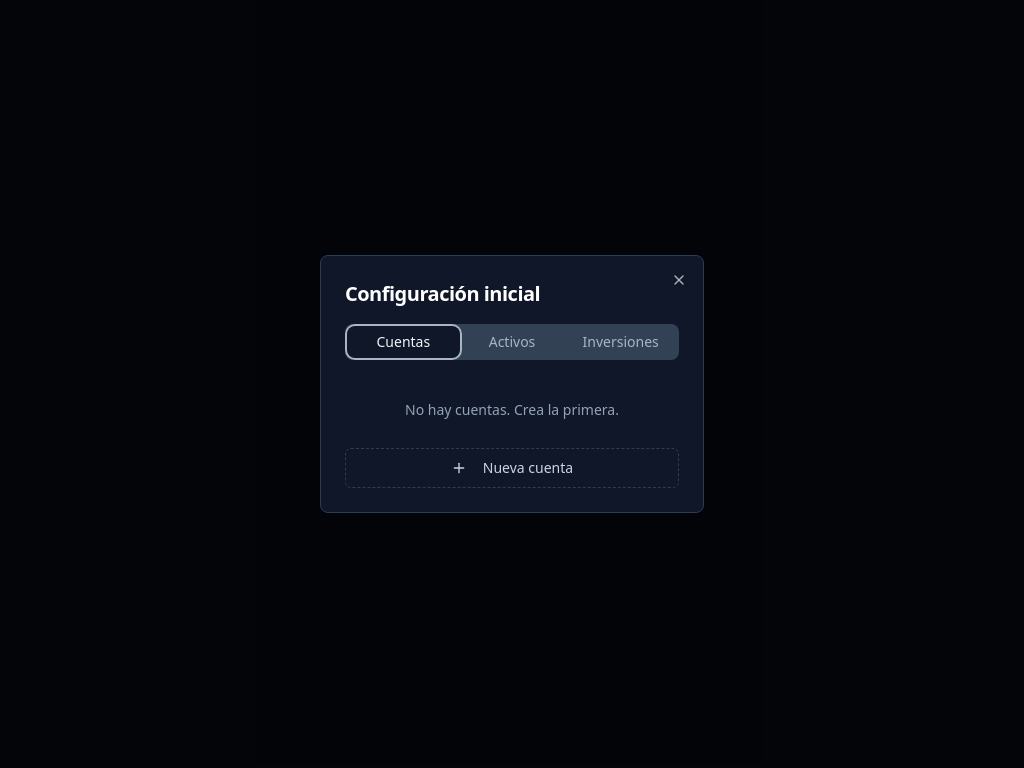
Test: AccountsModal – edit and update › cancels asset edit form when X is clicked — hides form
Click the tab "Activos" at {"x": 512, "y": 342}, box [458, 328, 566, 356]
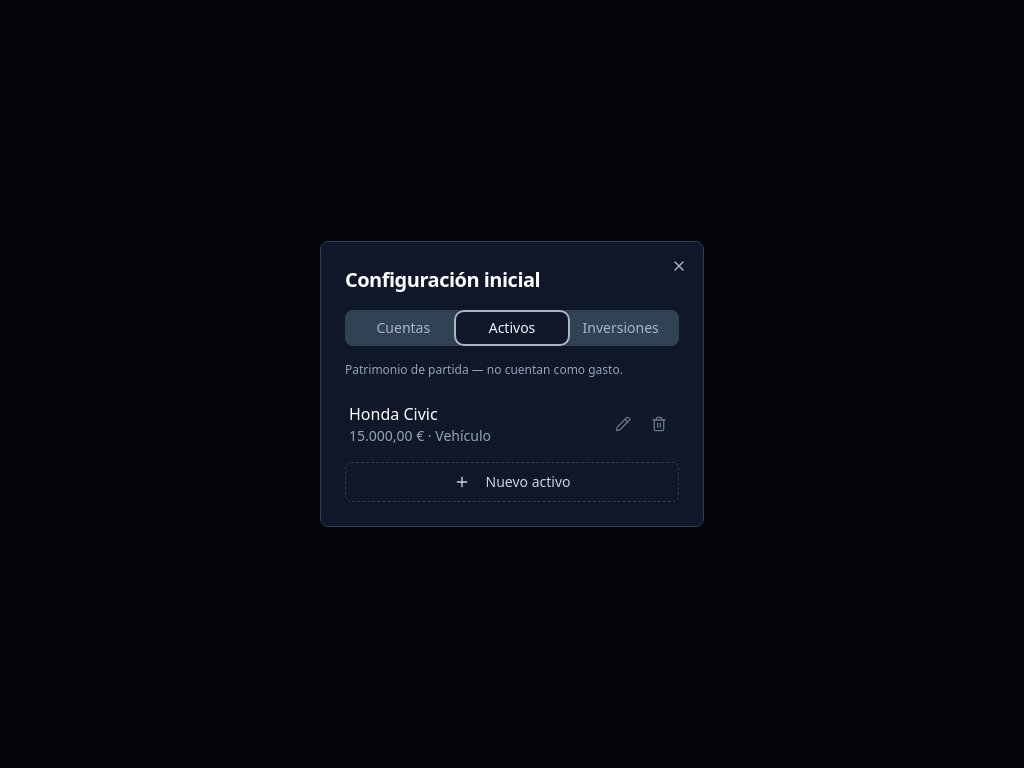
Click the button named "Editar Honda Civic" at {"x": 623, "y": 424}, box [607, 408, 639, 440]
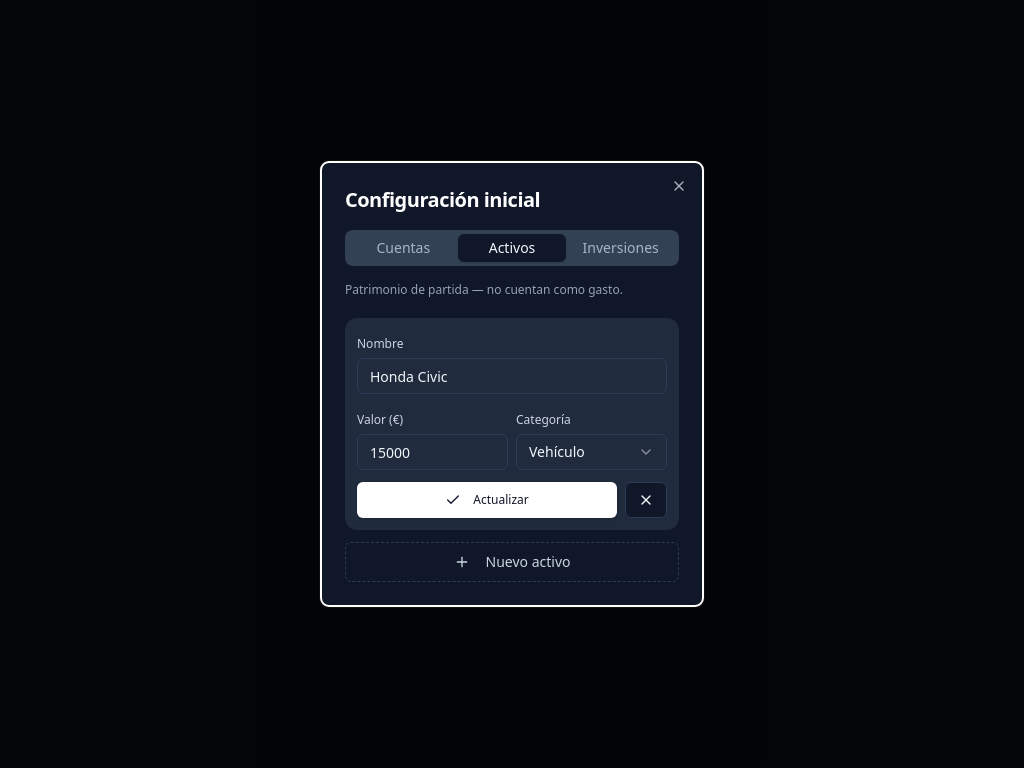
Now the button "Actualizar" is shown, box [357, 482, 617, 518]
Click the button without text below "Valor (€)" at {"x": 646, "y": 500}, box [625, 482, 667, 518]
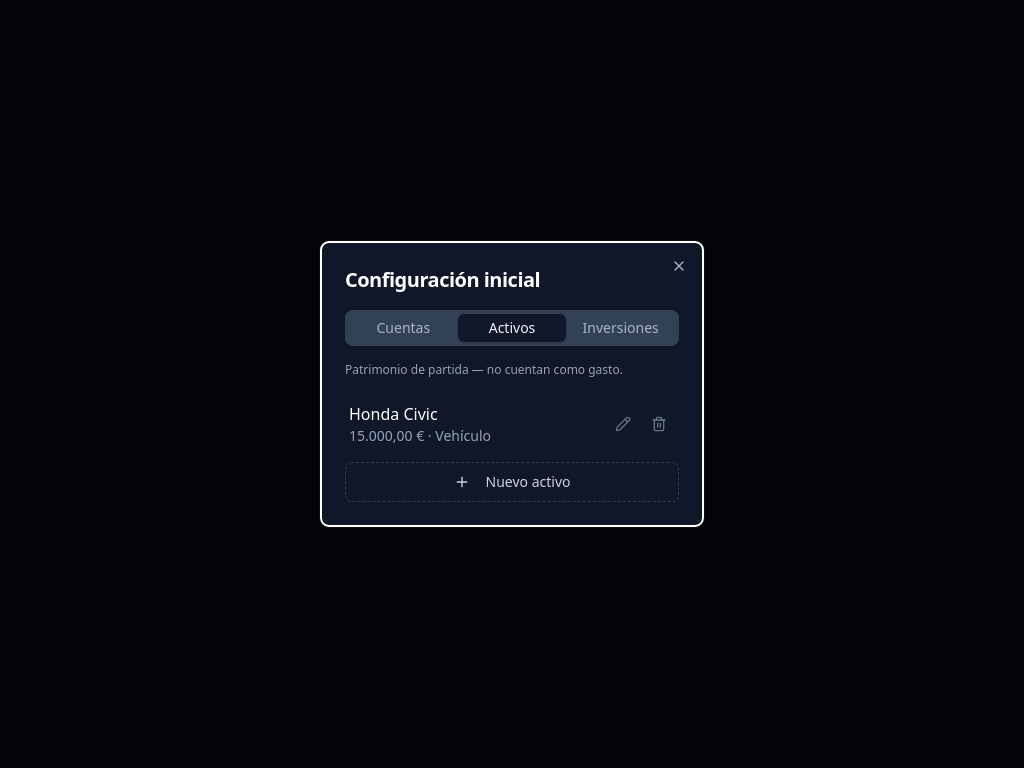
Now the button "Actualizar" is gone
Now the text "Honda Civic" is shown, box [349, 403, 438, 425]
